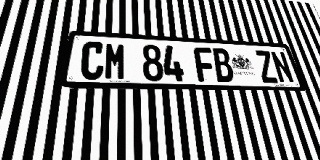4: (162, 45, 184, 81)
8: (142, 44, 164, 81)
B: (211, 48, 235, 82)
C: (79, 41, 105, 80)
F: (193, 47, 217, 82)
M: (104, 42, 126, 80)
N: (269, 51, 295, 83)
Z: (254, 50, 279, 83)
